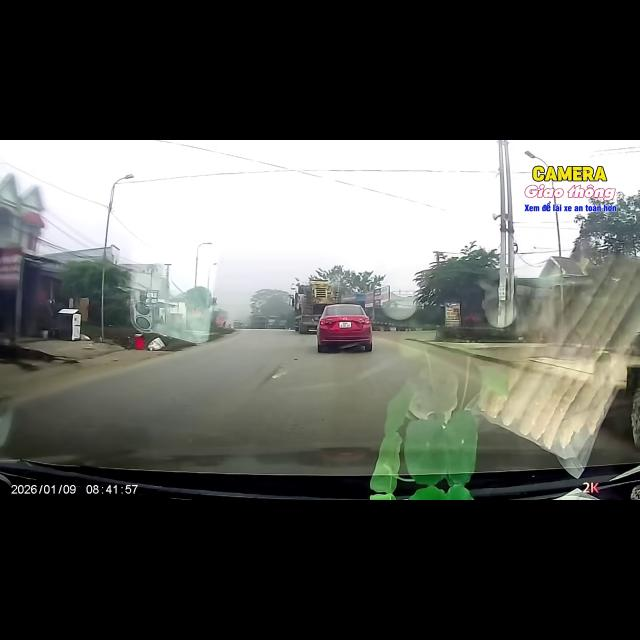car: (317, 304, 372, 352)
truck: (292, 280, 336, 333)
